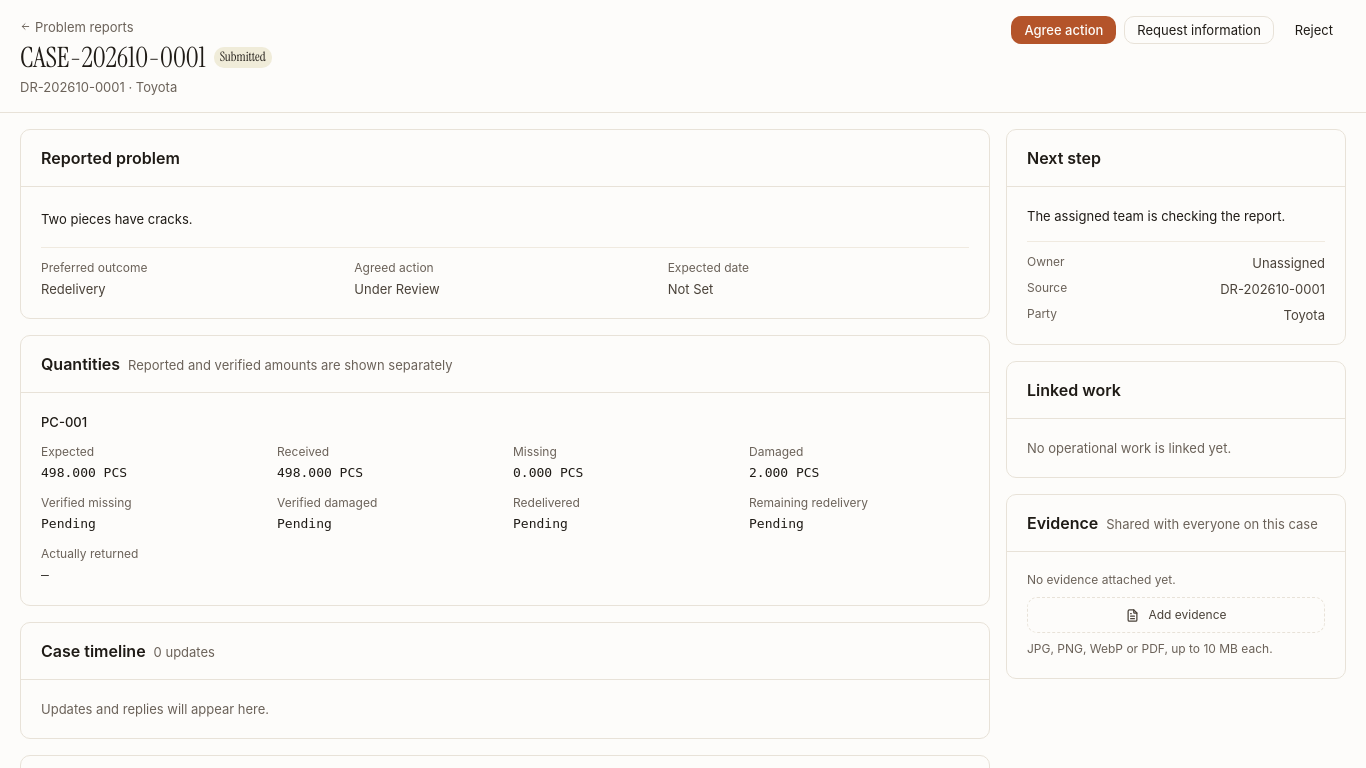
Test: opens agreement in a labelled modal and retains its draft after cancellation
Expected: the heading "CASE-202610-0001 Submitted" is shown, [20,40,272,76]
Click the button "Agree action".
click(1064, 30)  # box [1011,16,1116,44]
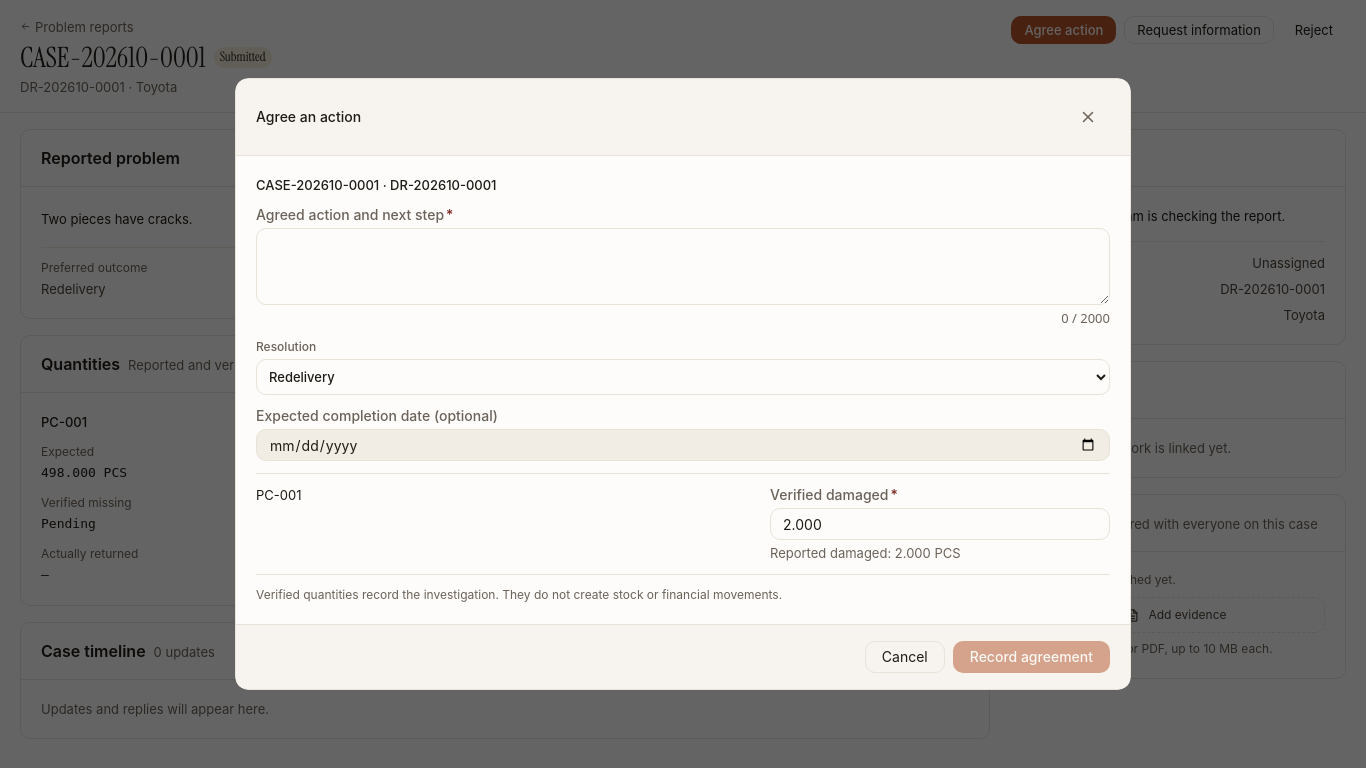
Type "Replace 2 defective pieces." into the text box labelled "Agreed action and next step*".
click(683, 266); type("Replace 2 defective pieces.")  # box [256,228,1110,305]
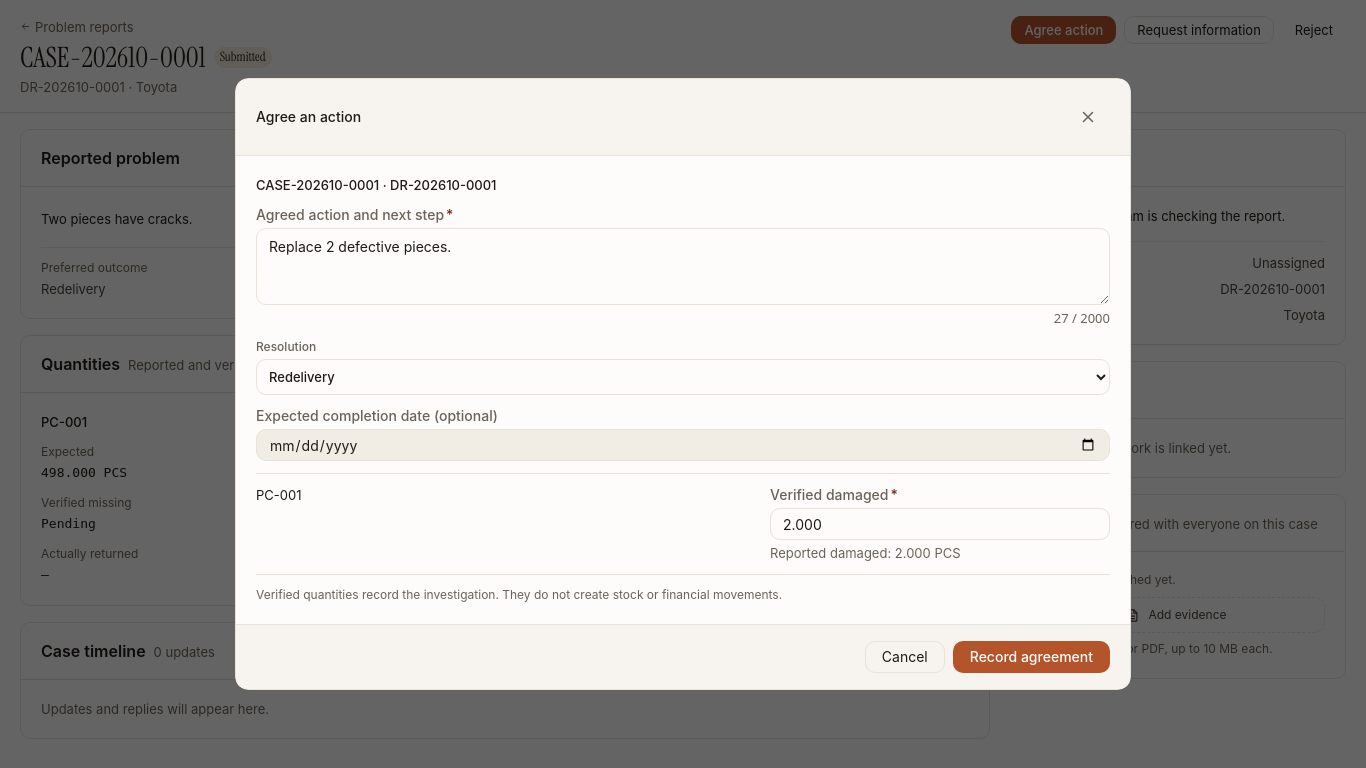
Click the button "Cancel".
click(905, 657)  # box [865,641,945,673]
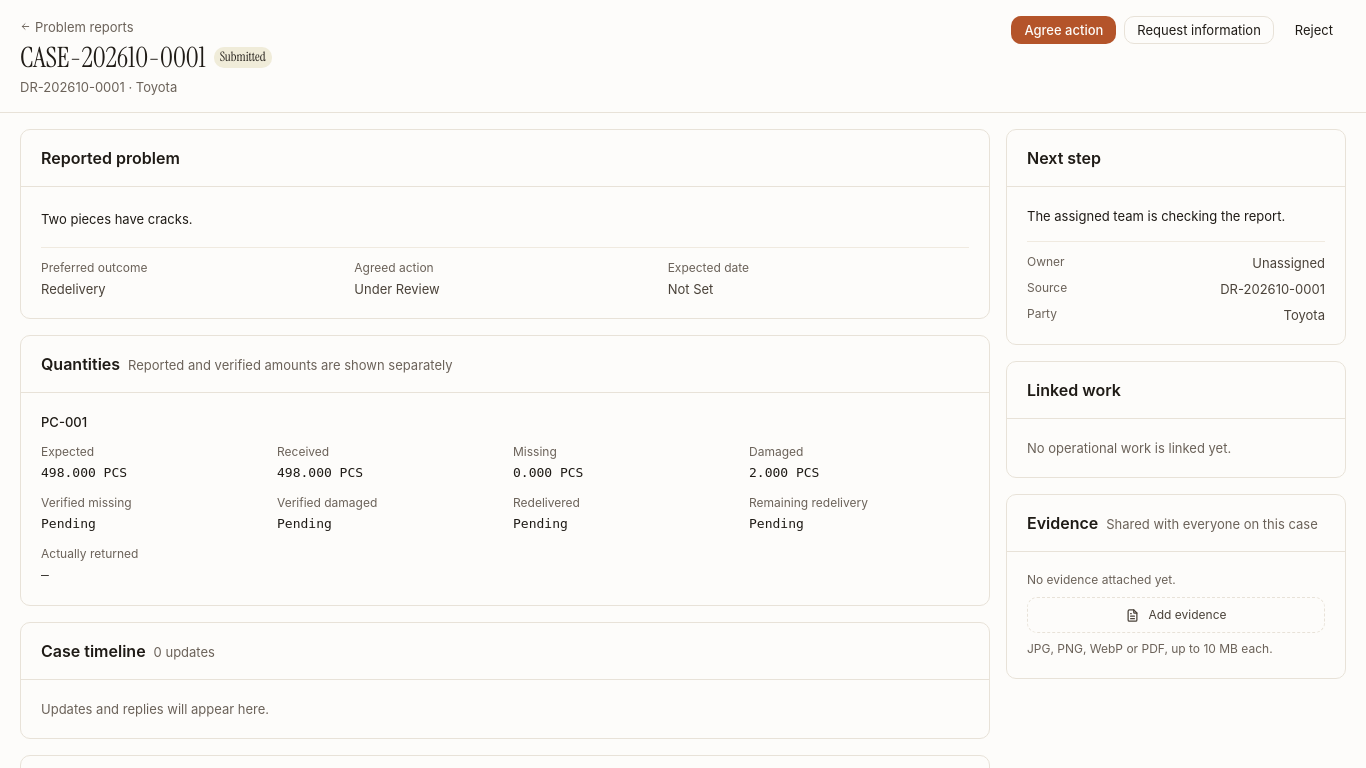
Expected: the dialog is gone
Click the button "Agree action".
click(1064, 30)  # box [1011,16,1116,44]
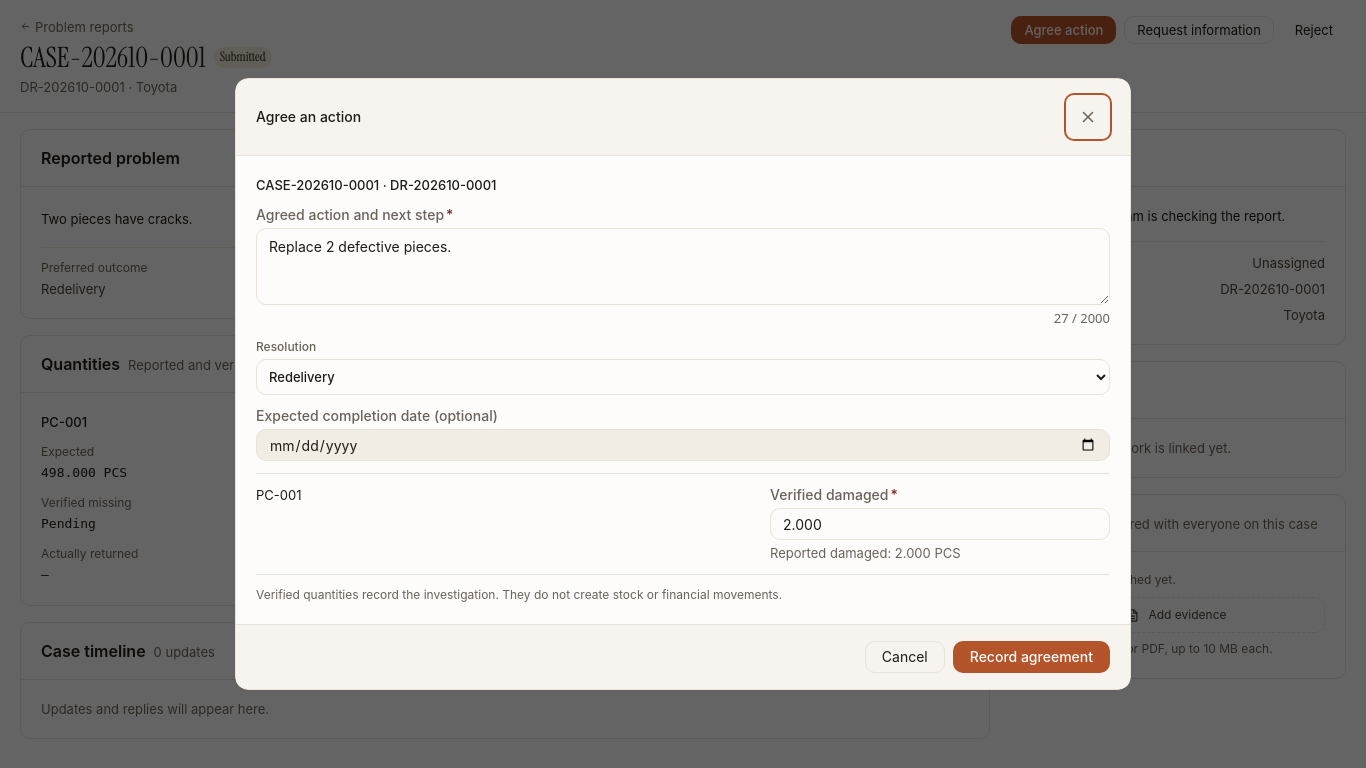
Expected: the text box labelled "Agreed action and next step*" holds "Replace 2 defective pieces.", [256,228,1110,305]
